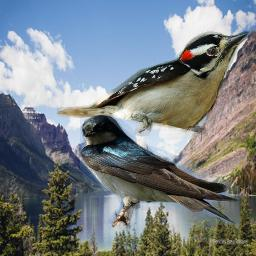Swallow: (80, 115, 240, 231)
Woodpecker: (57, 27, 250, 137)
